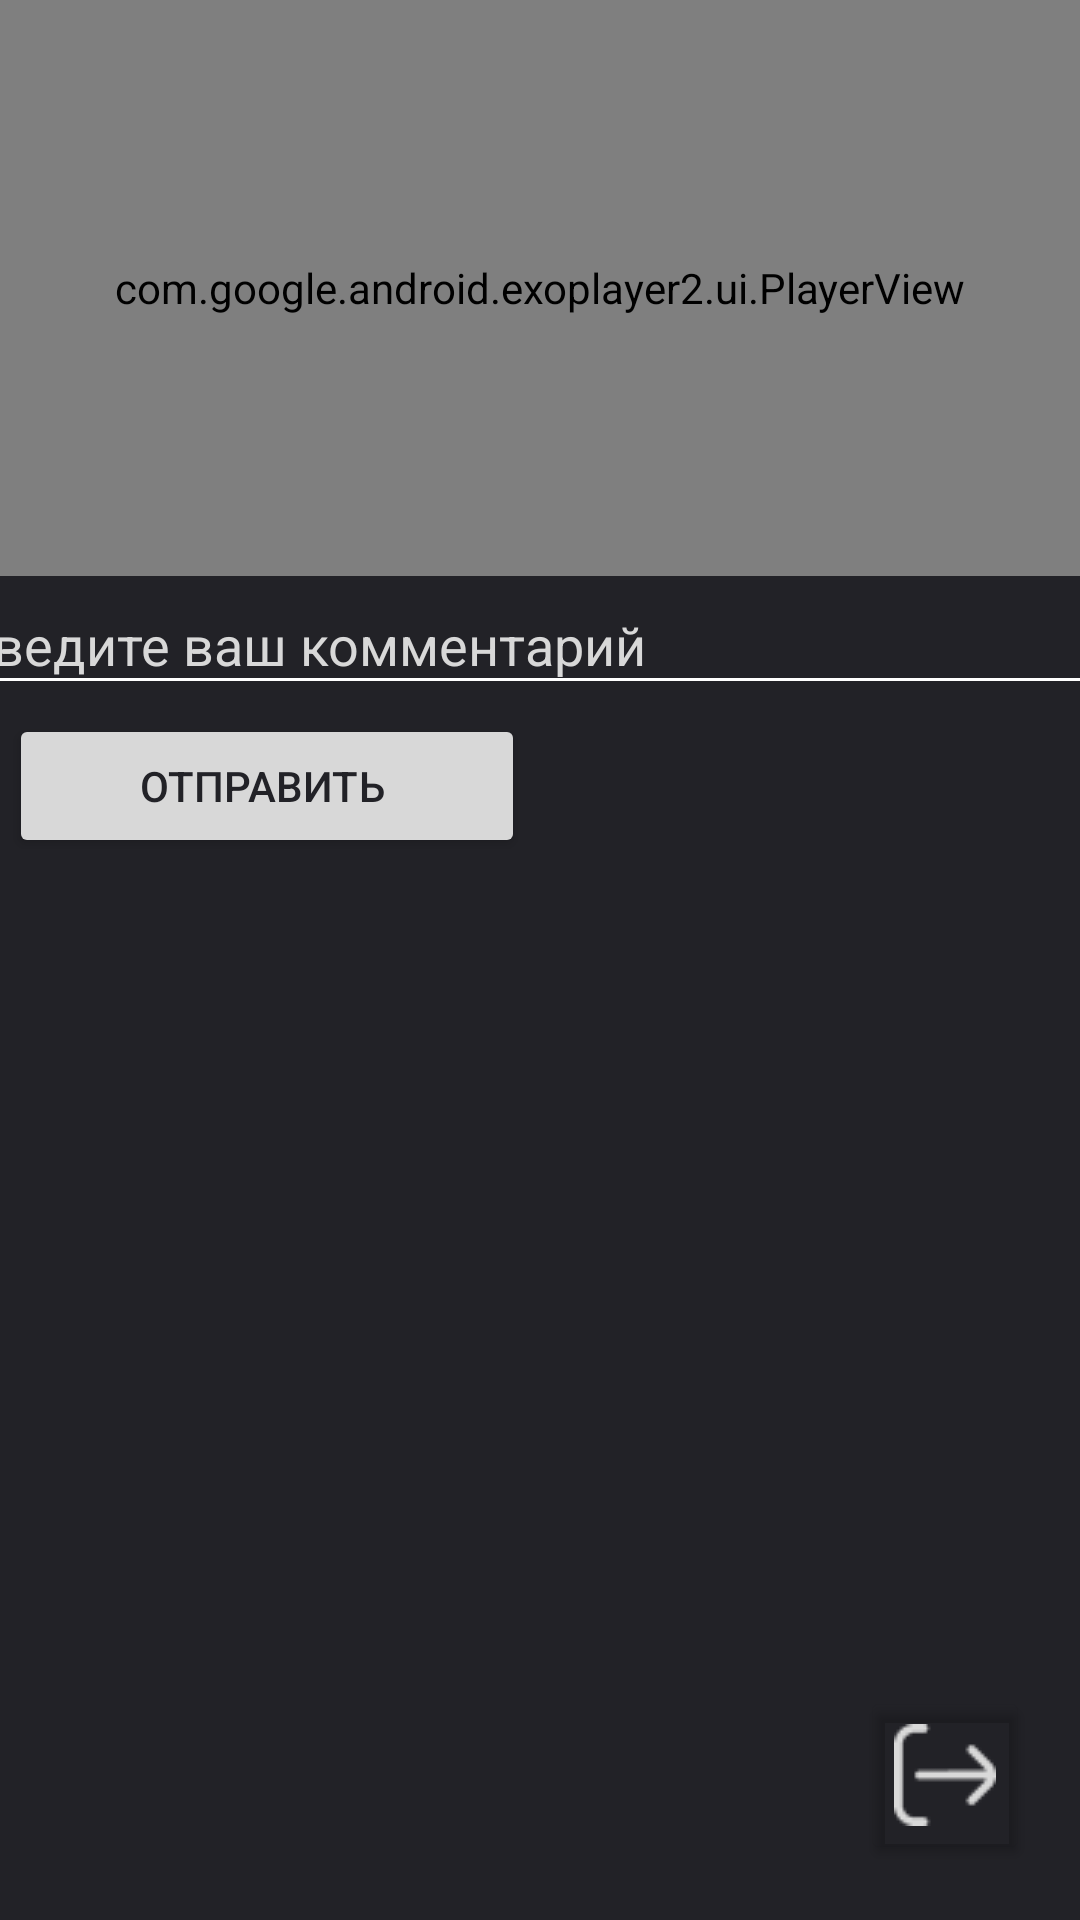

Icons on this 1080x1920 Android screen, each with the point to tap as point (x, y):
exit: point (945, 1775)
